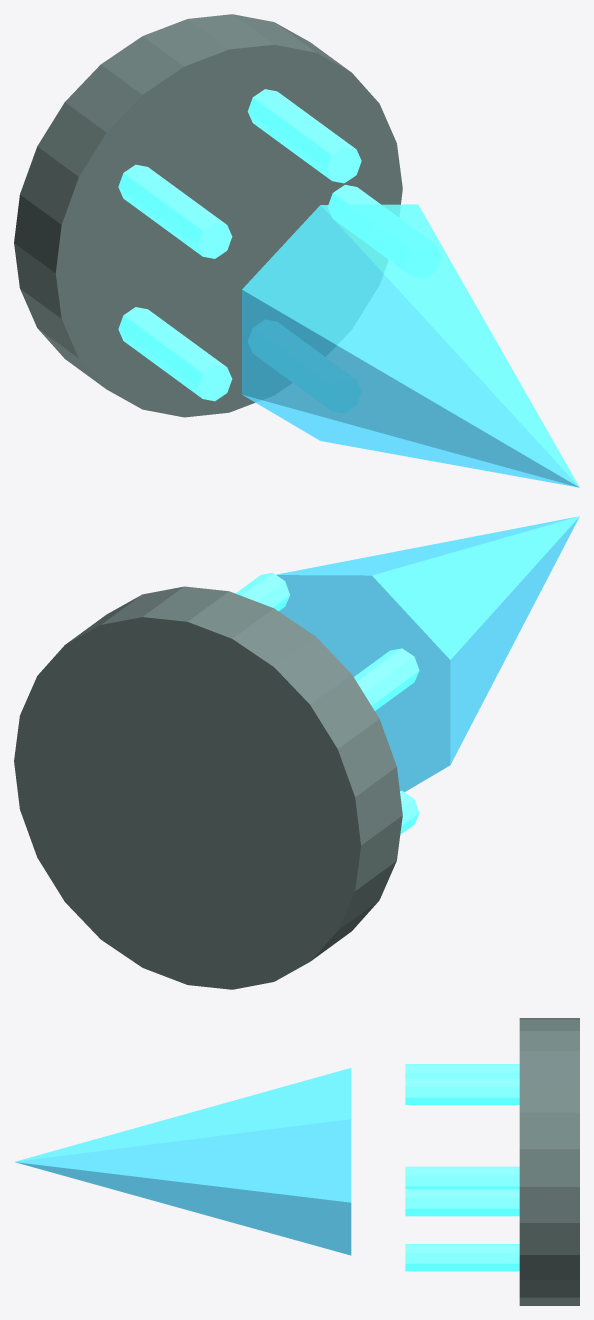
Rendered from 23_Seafloor_Vent_Crystal.glb.
3 views of the same model, one above another, from view 1: azimuth 30°, elevation 25°; view 2: azimuth 150°, elevation 25°; view 3: azimuth 270°, elevation 25° (orthographic). The views are drawn at different scales.
Visible parts, largest first — view 1: 23_Seafloor_Vent_Crystal_00, 23_Seafloor_Vent_Crystal_01, 23_Seafloor_Vent_Crystal_03, 23_Seafloor_Vent_Crystal_05, 23_Seafloor_Vent_Crystal_04, 23_Seafloor_Vent_Crystal_02; view 2: 23_Seafloor_Vent_Crystal_00, 23_Seafloor_Vent_Crystal_01, 23_Seafloor_Vent_Crystal_04, 23_Seafloor_Vent_Crystal_03; view 3: 23_Seafloor_Vent_Crystal_01, 23_Seafloor_Vent_Crystal_00, 23_Seafloor_Vent_Crystal_02, 23_Seafloor_Vent_Crystal_06, 23_Seafloor_Vent_Crystal_03, 23_Seafloor_Vent_Crystal_05, 23_Seafloor_Vent_Crystal_04.
Part boxes in pixels (<box>): 23_Seafloor_Vent_Crystal_00: <box>14,14,402,417</box>; 23_Seafloor_Vent_Crystal_01: <box>242,204,579,487</box>; 23_Seafloor_Vent_Crystal_03: <box>247,89,361,183</box>; 23_Seafloor_Vent_Crystal_05: <box>118,307,232,401</box>; 23_Seafloor_Vent_Crystal_04: <box>118,164,232,258</box>; 23_Seafloor_Vent_Crystal_02: <box>328,184,380,204</box>; 23_Seafloor_Vent_Crystal_00: <box>14,586,402,989</box>; 23_Seafloor_Vent_Crystal_01: <box>276,516,579,792</box>; 23_Seafloor_Vent_Crystal_04: <box>354,648,419,710</box>; 23_Seafloor_Vent_Crystal_03: <box>235,573,289,611</box>; 23_Seafloor_Vent_Crystal_01: <box>15,1068,351,1255</box>; 23_Seafloor_Vent_Crystal_00: <box>519,1018,579,1305</box>; 23_Seafloor_Vent_Crystal_02: <box>405,1189,519,1216</box>; 23_Seafloor_Vent_Crystal_06: <box>405,1244,519,1271</box>; 23_Seafloor_Vent_Crystal_03: <box>405,1078,519,1104</box>; 23_Seafloor_Vent_Crystal_05: <box>405,1166,519,1188</box>; 23_Seafloor_Vent_Crystal_04: <box>405,1064,519,1077</box>.
Size of the model in its own units: 2.4 by 2.4 by 4.7.
